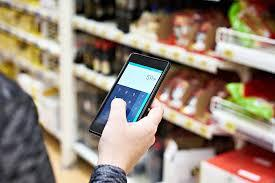Calculator: (92, 71, 158, 130)
